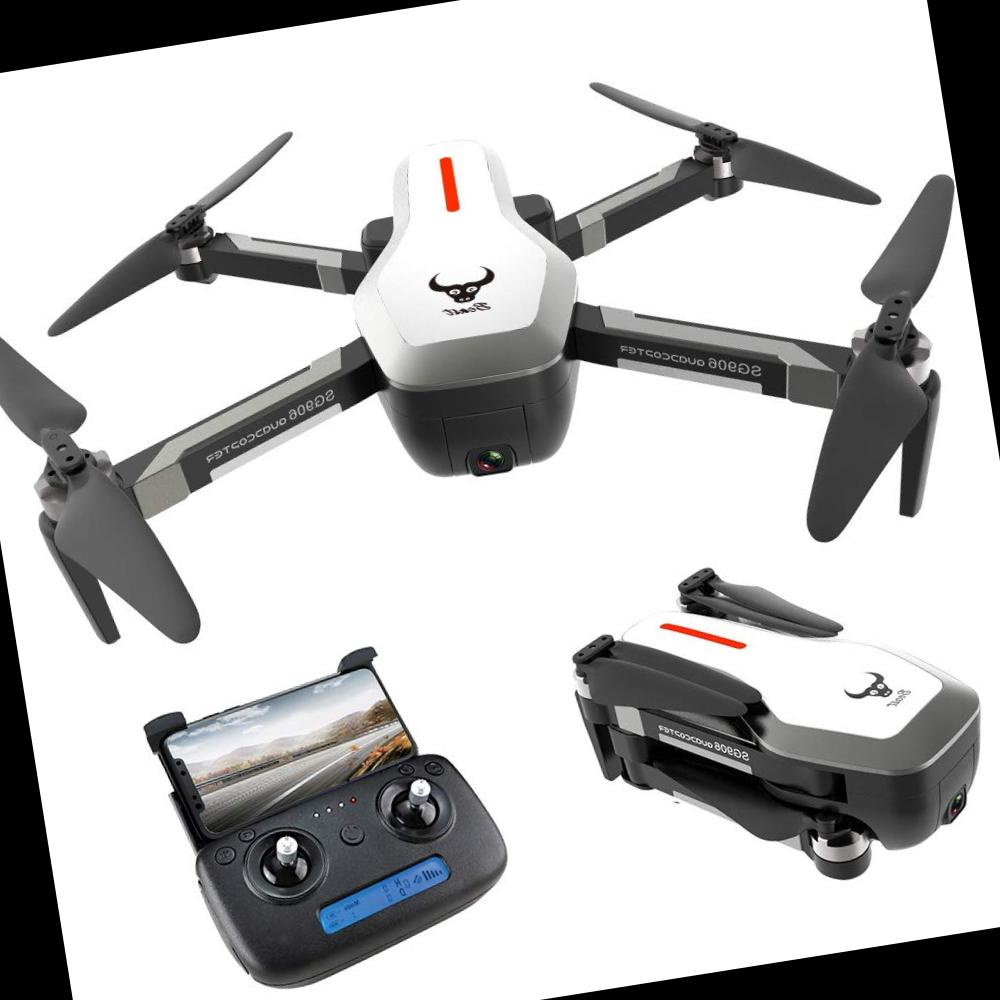drone: (0, 21, 1000, 692)
